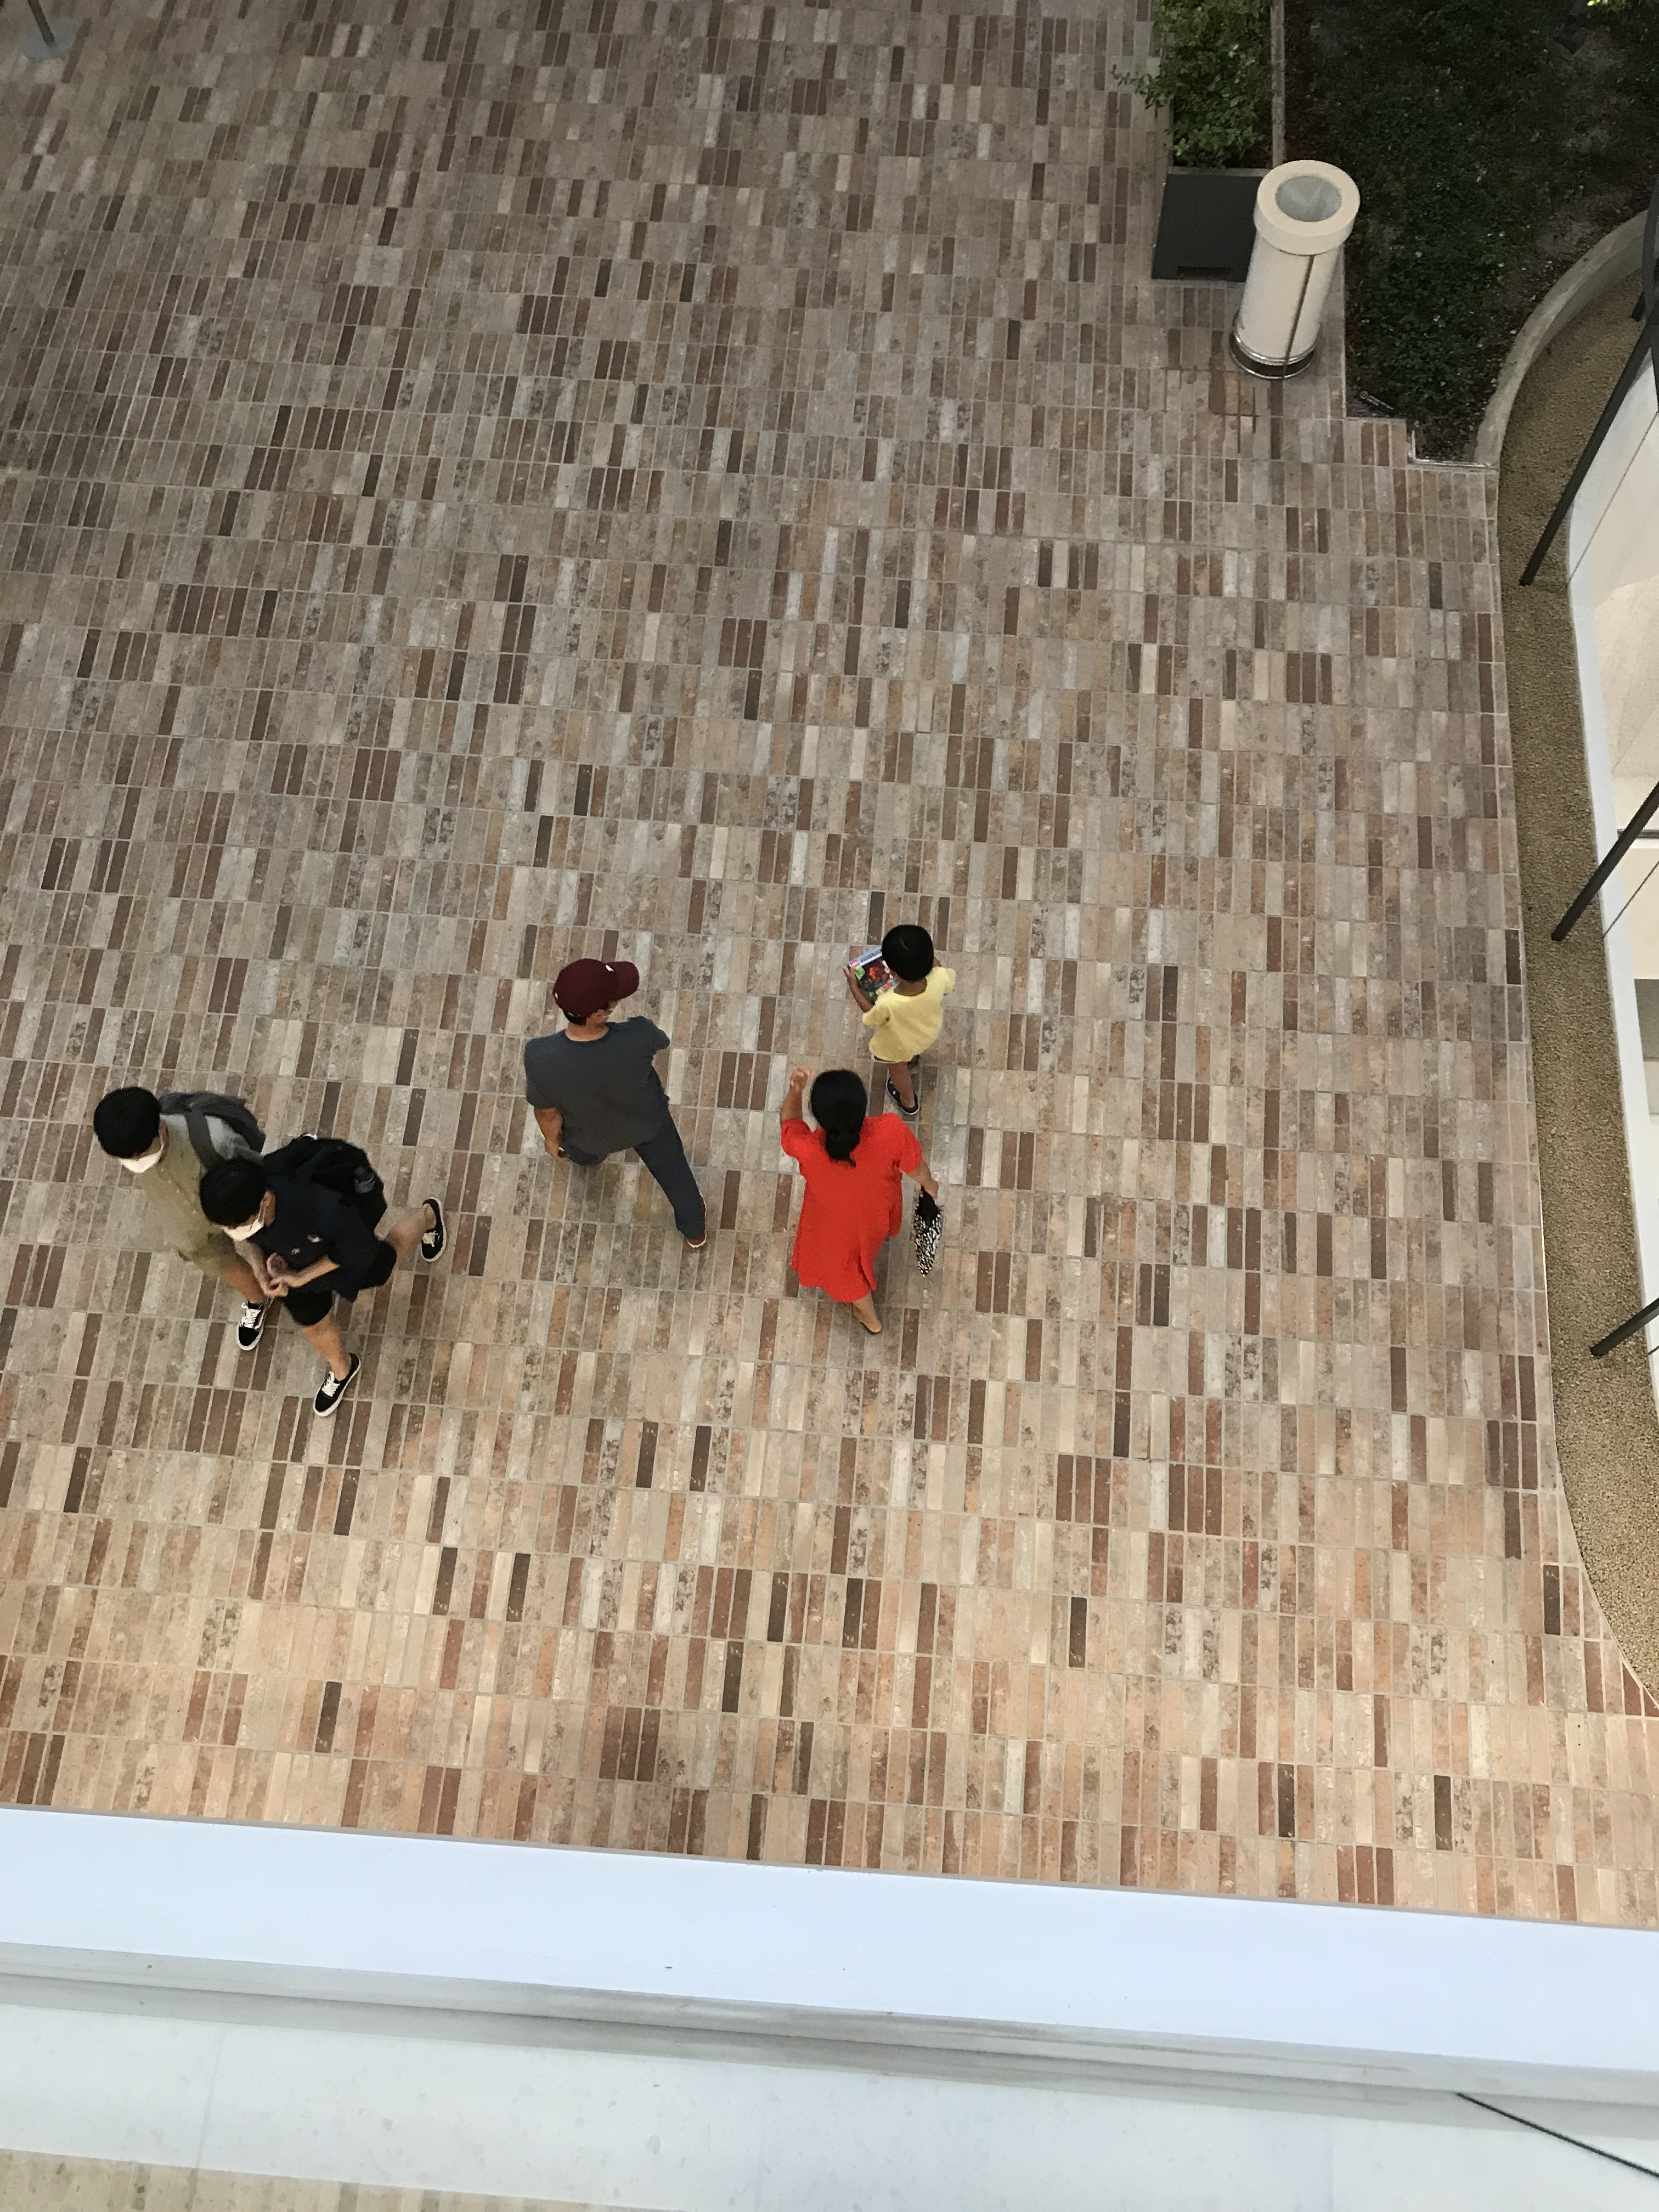person: (207, 1138, 451, 1415), (518, 955, 713, 1248), (768, 1065, 942, 1345), (86, 1086, 262, 1357), (844, 924, 954, 1116)
